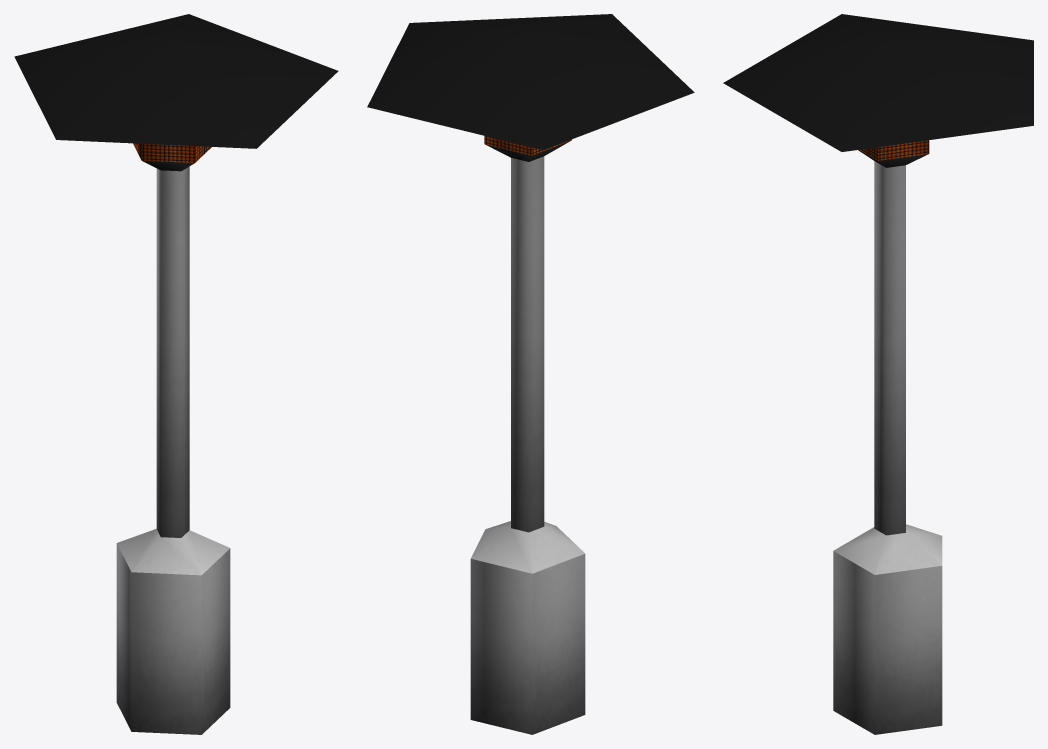
The model's file is Outdoor_Heater.fbx.
3 views of the same model, side by side, from view 1: azimuth 30°, elevation 25°; view 2: azimuth 150°, elevation 25°; view 3: azimuth 270°, elevation 25° (orthographic).
Parts seen in each view (by area): view 1: Outdoor_Heater_1; view 2: Outdoor_Heater_1; view 3: Outdoor_Heater_1.
Part boxes in pixels (<box>): Outdoor_Heater_1: <box>14,14,338,734</box>; Outdoor_Heater_1: <box>367,14,694,734</box>; Outdoor_Heater_1: <box>723,14,1033,734</box>.
Bounding box in the file's own units: 109 × 247 × 104.
